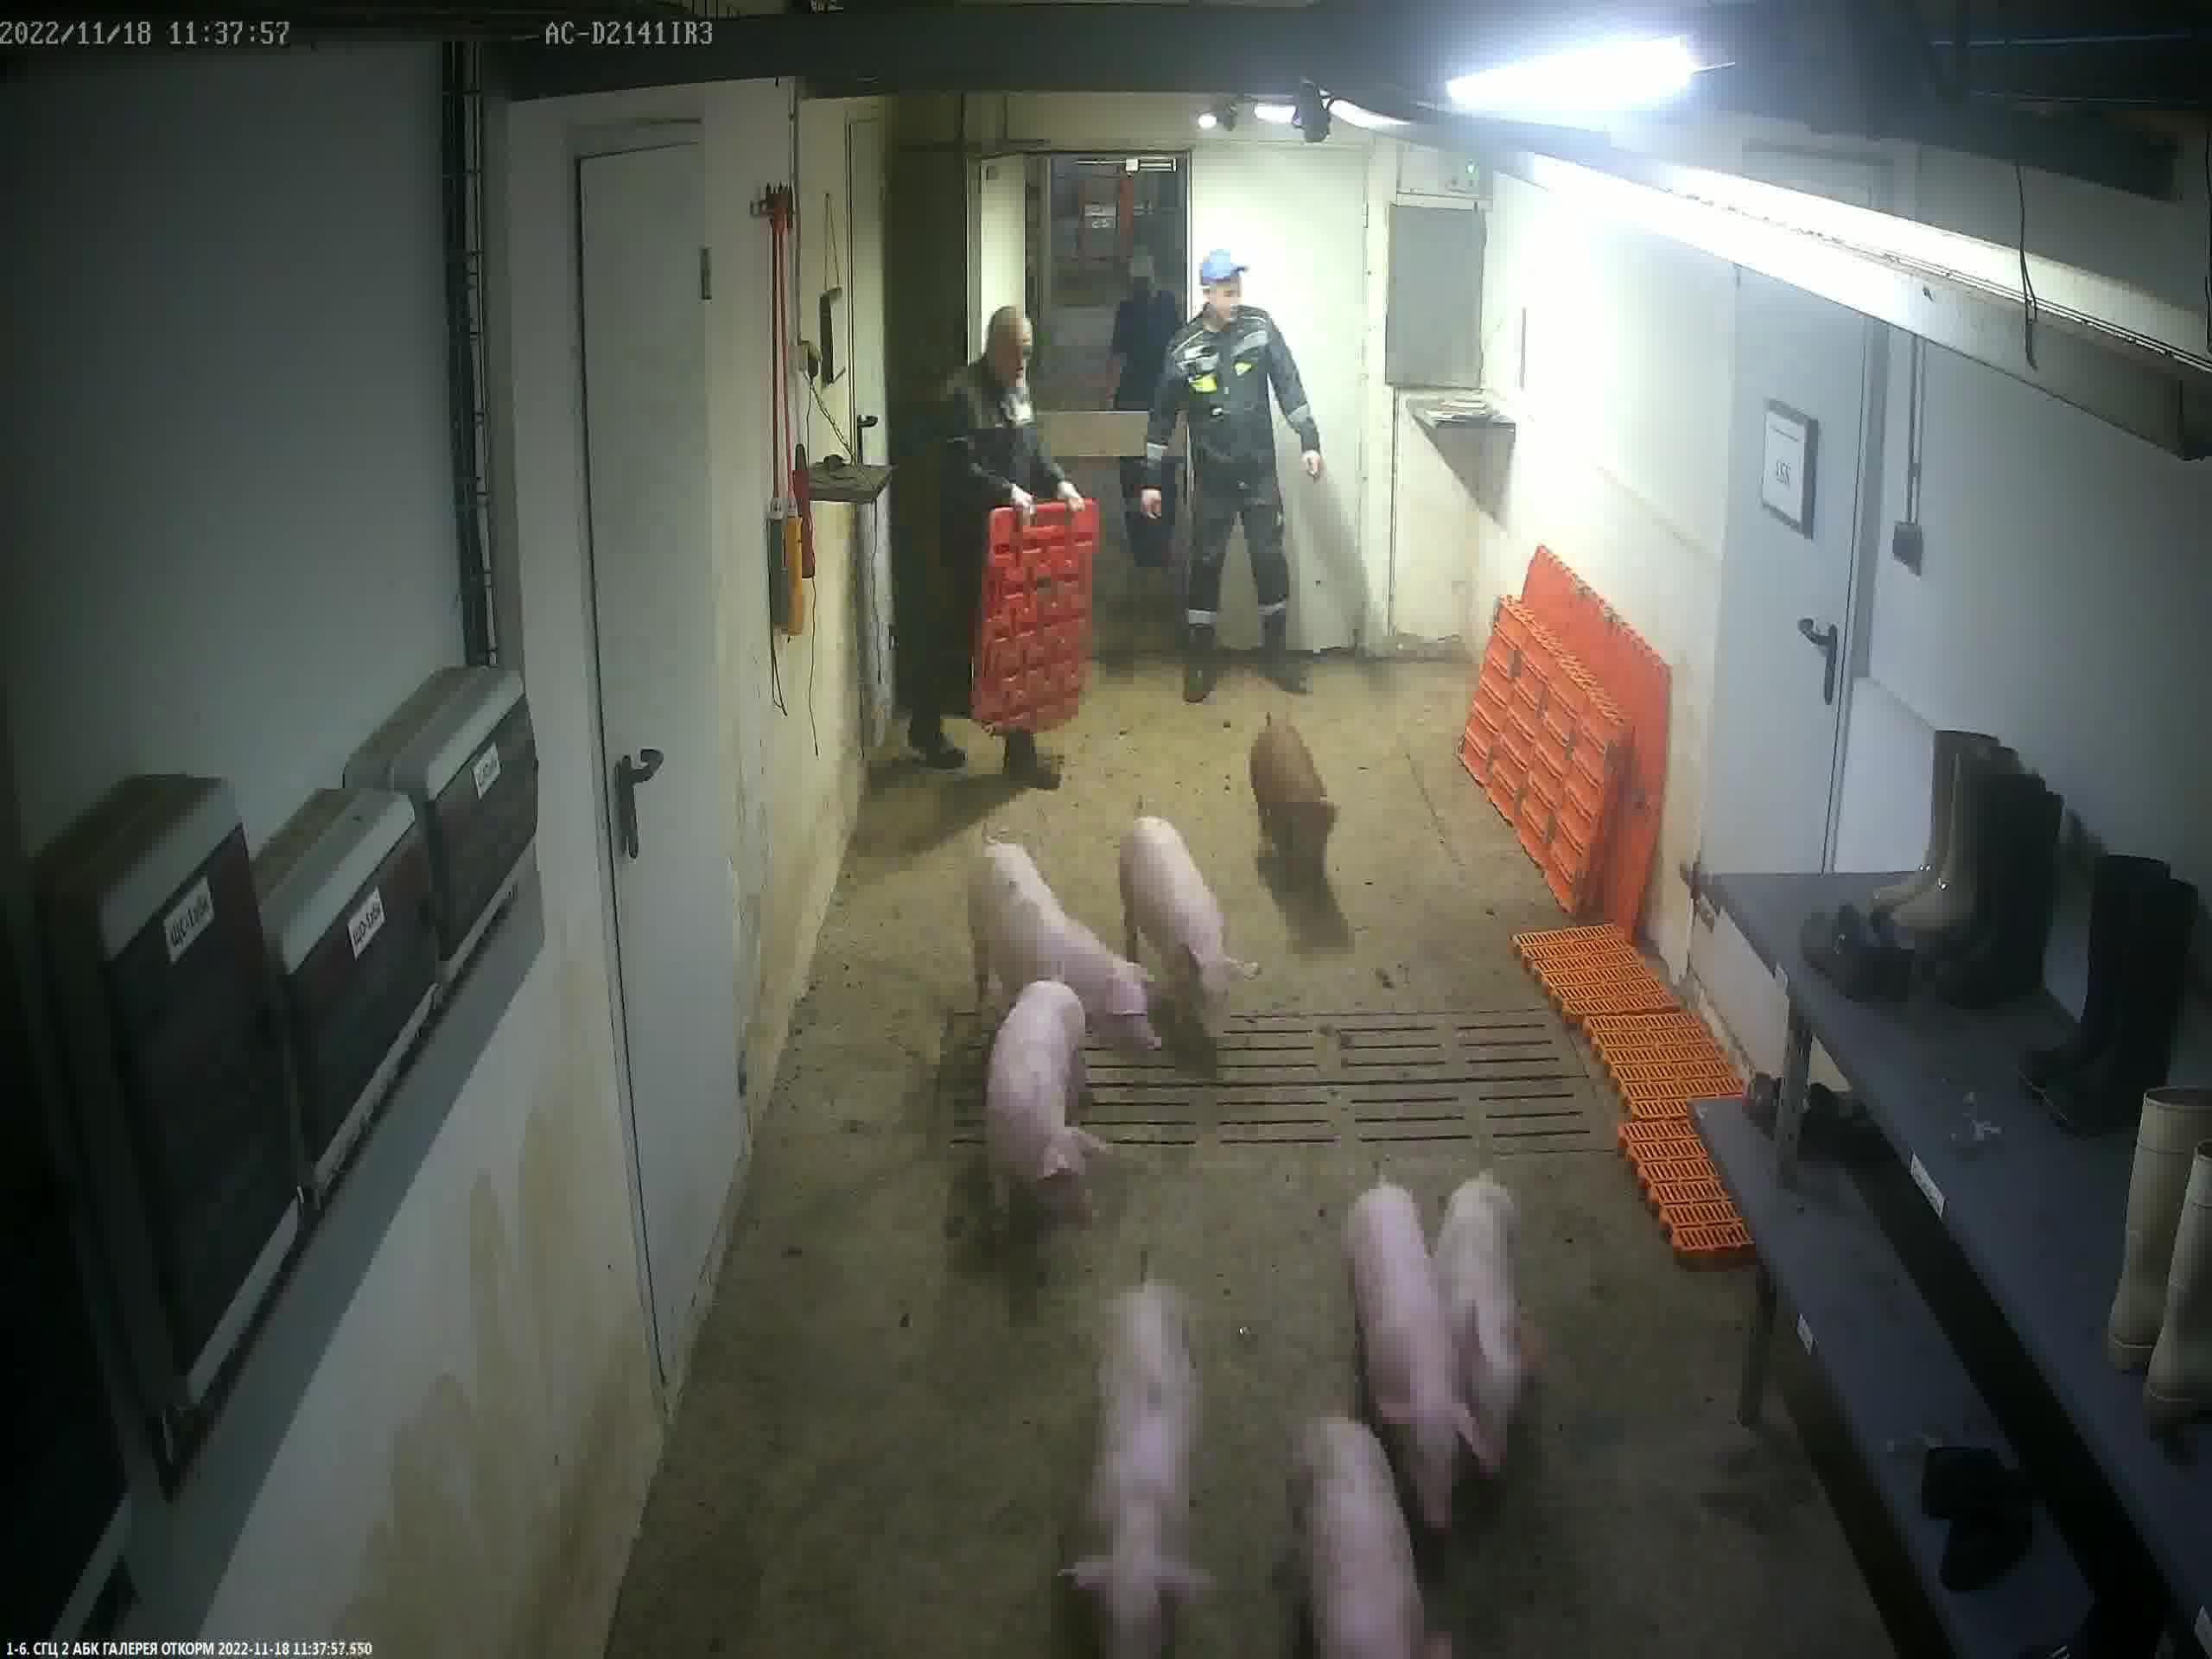Pigs: (1057, 1284, 1216, 1659), (1348, 1187, 1500, 1534), (968, 842, 1162, 1051), (1299, 1419, 1451, 1659), (1120, 817, 1259, 1053), (1442, 1182, 1552, 1453), (991, 981, 1106, 1208), (1252, 725, 1348, 904)
